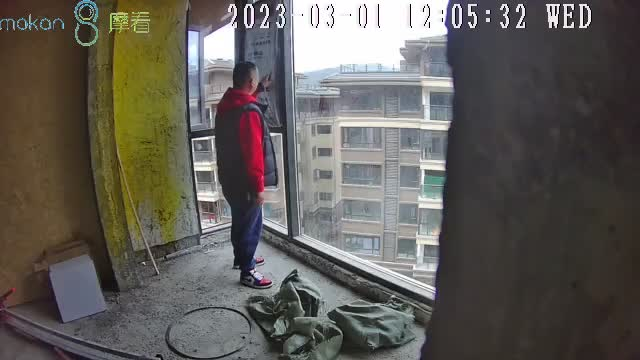people: (216, 62, 277, 288)
window: (187, 1, 452, 313)
